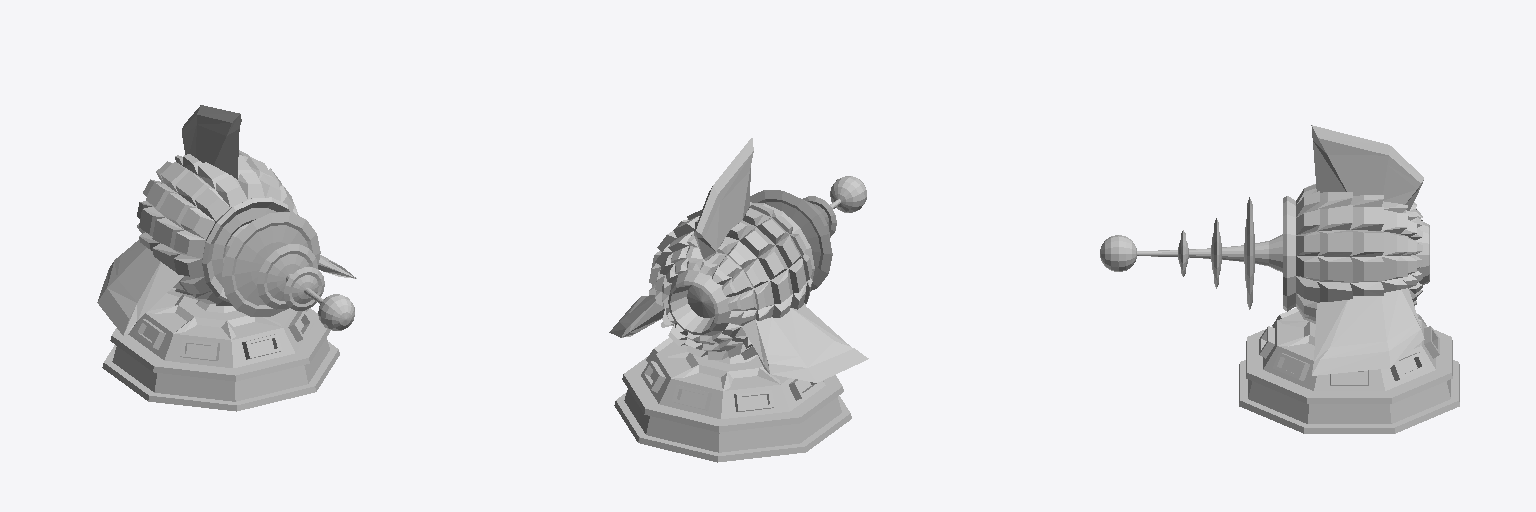
The model's file is Frost_Tower.obj.
3 renders of one model, left to right at view 1: azimuth 30°, elevation 25°; view 2: azimuth 150°, elevation 25°; view 3: azimuth 270°, elevation 25°, orthographic.
Visible parts, largest first — view 1: FrostLaser.001_Cylinder.001; view 2: FrostLaser.001_Cylinder.001; view 3: FrostLaser.001_Cylinder.001.
Boxes of the visible parts, x1,y1,x2,y2 form: FrostLaser.001_Cylinder.001: [97, 105, 356, 411]; FrostLaser.001_Cylinder.001: [609, 138, 868, 462]; FrostLaser.001_Cylinder.001: [1100, 125, 1459, 433].
Bounding box in the file's own units: 2.44 × 2.61 × 3.26.